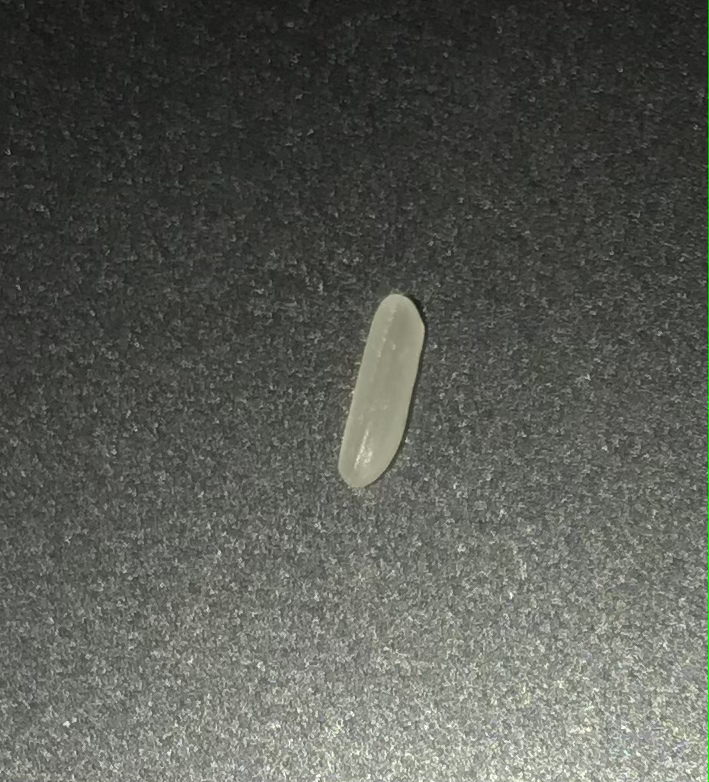Gao Long Lai: (324, 283, 445, 501)
